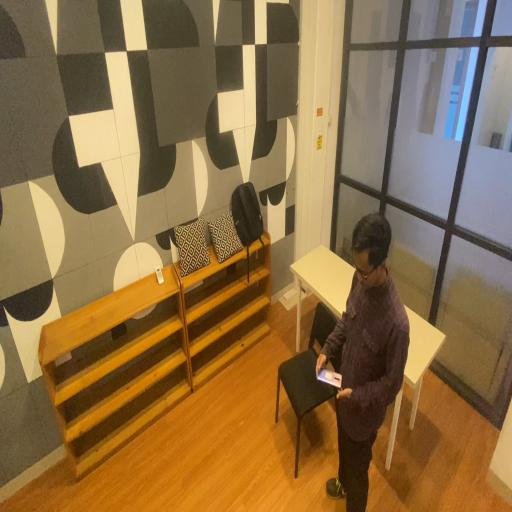bantal: (172, 216, 210, 278), (208, 210, 244, 266)
hp: (317, 364, 346, 395)
kursi: (274, 294, 319, 483)
lemari: (38, 260, 194, 486)
remote AC: (154, 265, 166, 286)
tas ransel: (229, 179, 269, 248)
